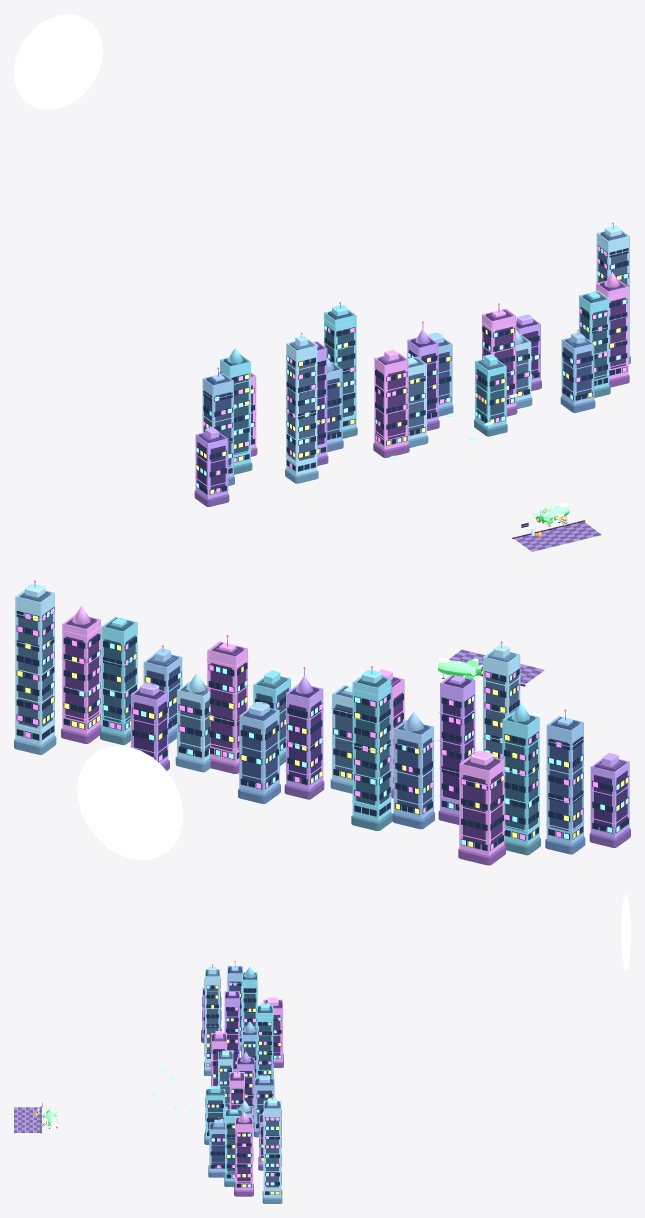
File: landeplatz.glb
3 views of the same model, one above another, from view 1: azimuth 30°, elevation 25°; view 2: azimuth 150°, elevation 25°; view 3: azimuth 270°, elevation 25° (orthographic). The views are drawn at different scales.
Parts seen in each view (by area): view 1: Mond.003, Turm4.003, Hausdetails4.002, Turm8.003, Hausdetails8.002, HausFensterDunkel4.002, Turm7.003, Hausdetails7.002, Turm12.003, Turm17.003, Turm16.003, Turm0.003 (+16 smaller); view 2: Mond.003, Turm19.003, Hausdetails19.002, Hausdetails7.002, Turm7.003, Turm1.003, Turm2.003, Turm3.003, Hausdetails1.002, Turm13.003, Turm18.003, Hausdetails2.002 (+54 smaller); view 3: Hausdetails19.002, Turm19.003, Hausdetails18.002, Mond.003, Turm18.003, Hausdetails4.002, Turm4.003, Turm7.003, Hausdetails7.002, Turm5.003, HausFensterDunkel19.002, HausFensterDunkel4.002.
Part boxes in pixels (bbox=[...]): Mond.003: bbox=[14, 14, 103, 109]; Turm4.003: bbox=[287, 341, 314, 460]; Hausdetails4.002: bbox=[285, 339, 317, 475]; Turm8.003: bbox=[376, 355, 405, 439]; Hausdetails8.002: bbox=[374, 352, 408, 449]; HausFensterDunkel4.002: bbox=[286, 355, 315, 471]; Turm7.003: bbox=[325, 311, 353, 417]; Hausdetails7.002: bbox=[323, 310, 356, 430]; Turm12.003: bbox=[476, 360, 504, 420]; Turm17.003: bbox=[580, 292, 606, 379]; Turm16.003: bbox=[563, 338, 591, 396]; Turm0.003: bbox=[197, 433, 225, 490]; Mond.003: bbox=[77, 745, 183, 859]; Turm19.003: bbox=[18, 591, 52, 727]; Hausdetails19.002: bbox=[14, 590, 55, 745]; Hausdetails7.002: bbox=[352, 675, 391, 821]; Turm7.003: bbox=[356, 677, 389, 805]; Turm1.003: bbox=[549, 717, 582, 831]; Turm2.003: bbox=[505, 715, 537, 831]; Turm3.003: bbox=[463, 758, 502, 844]; Hausdetails1.002: bbox=[546, 716, 584, 844]; Turm13.003: bbox=[210, 643, 246, 751]; Turm18.003: bbox=[65, 618, 98, 721]; Hausdetails2.002: bbox=[501, 711, 540, 845]; Hausdetails19.002: bbox=[263, 1100, 281, 1197]; Turm19.003: bbox=[264, 1101, 280, 1187]; Hausdetails18.002: bbox=[235, 1117, 253, 1190]; Mond.003: bbox=[621, 894, 630, 970]; Turm18.003: bbox=[236, 1118, 252, 1182]; Hausdetails4.002: bbox=[204, 969, 220, 1069]; Turm4.003: bbox=[205, 969, 219, 1058]; Turm7.003: bbox=[257, 1006, 272, 1077]; Hausdetails7.002: bbox=[256, 1005, 273, 1077]; Turm5.003: bbox=[225, 992, 239, 1068]; HausFensterDunkel19.002: bbox=[265, 1110, 281, 1194]; HausFensterDunkel4.002: bbox=[204, 978, 220, 1066].
Bounding box in the file's own units: 167 × 86.12 × 257.
